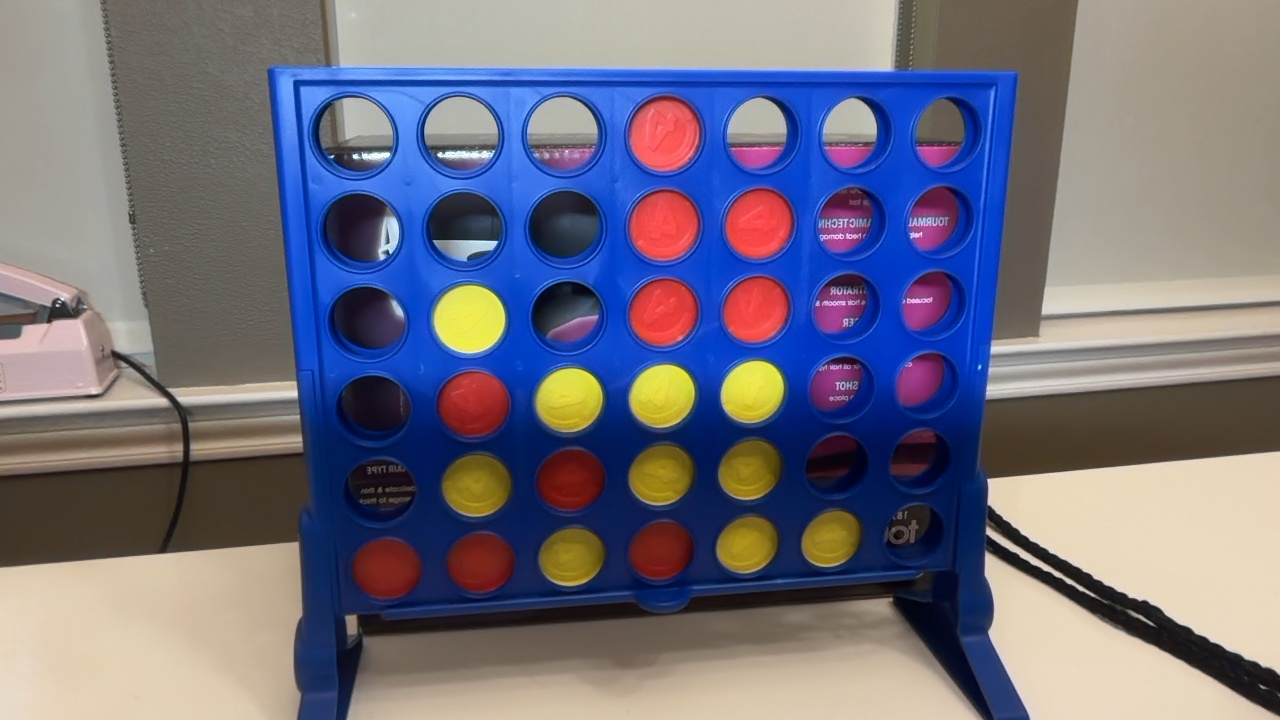red piece: (628, 96, 700, 171), (628, 189, 699, 261), (725, 188, 793, 259), (437, 370, 509, 437), (629, 278, 697, 347), (722, 276, 789, 343), (536, 448, 604, 511), (352, 538, 421, 600), (446, 532, 514, 594), (628, 520, 693, 581)
yellow piece: (432, 284, 506, 353), (534, 367, 603, 432), (442, 454, 511, 516), (629, 364, 695, 428), (628, 443, 694, 505), (721, 360, 785, 423), (539, 527, 604, 586), (718, 439, 781, 499), (717, 515, 777, 573), (801, 510, 860, 567)
